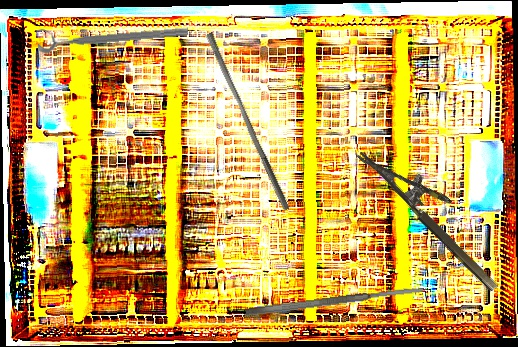Fixation Ring: (36, 14, 189, 54)
Needle Holder: (356, 130, 517, 294)
Pusher: (199, 31, 297, 212)
Spatula Surgical: (245, 285, 424, 317)
